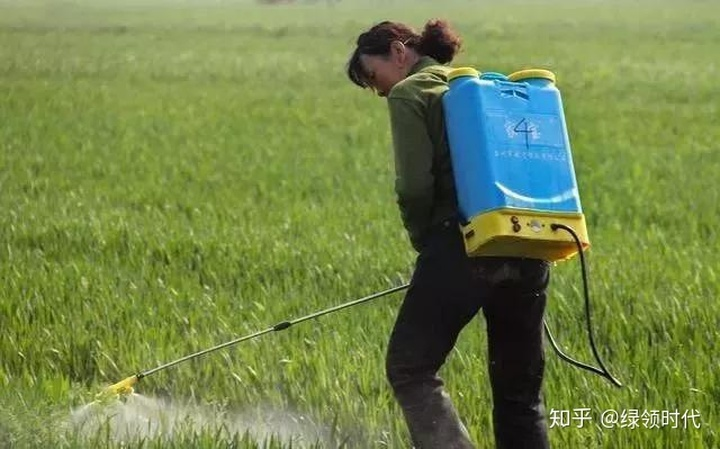berrl: (443, 67, 593, 262)
